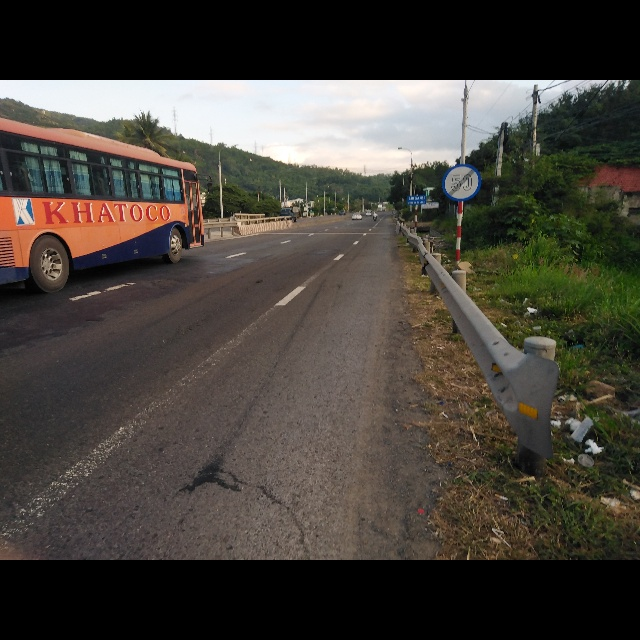Hết hạn chế tốc độ tối đa 50km/h: (442, 164, 483, 203)
